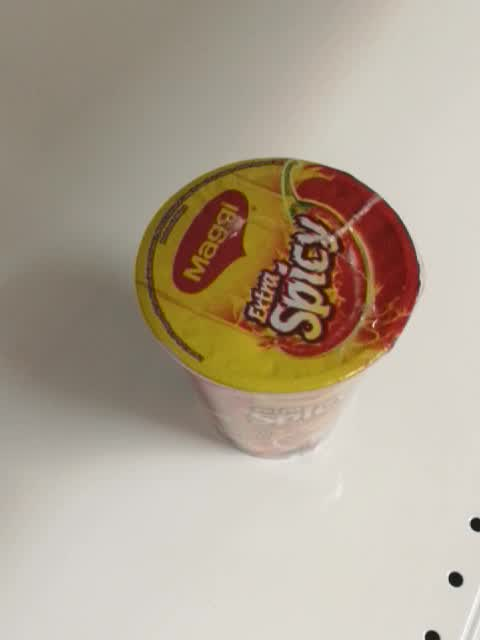maggi: (131, 154, 423, 461)
